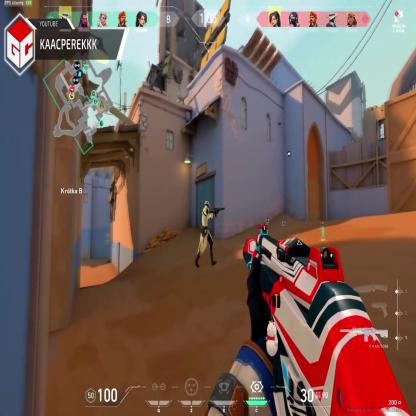enemy: (196, 199, 215, 266)
enemy_head: (204, 200, 210, 209)
